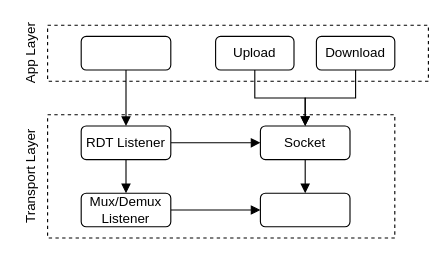
Image size: 448x258. Some labels were removed from this diagram. Here are the shapes that lost their labels. From the top down, the box of each, then its label:
(80, 35, 171, 70): Server
(259, 192, 350, 227): Mux/Demux Stream
